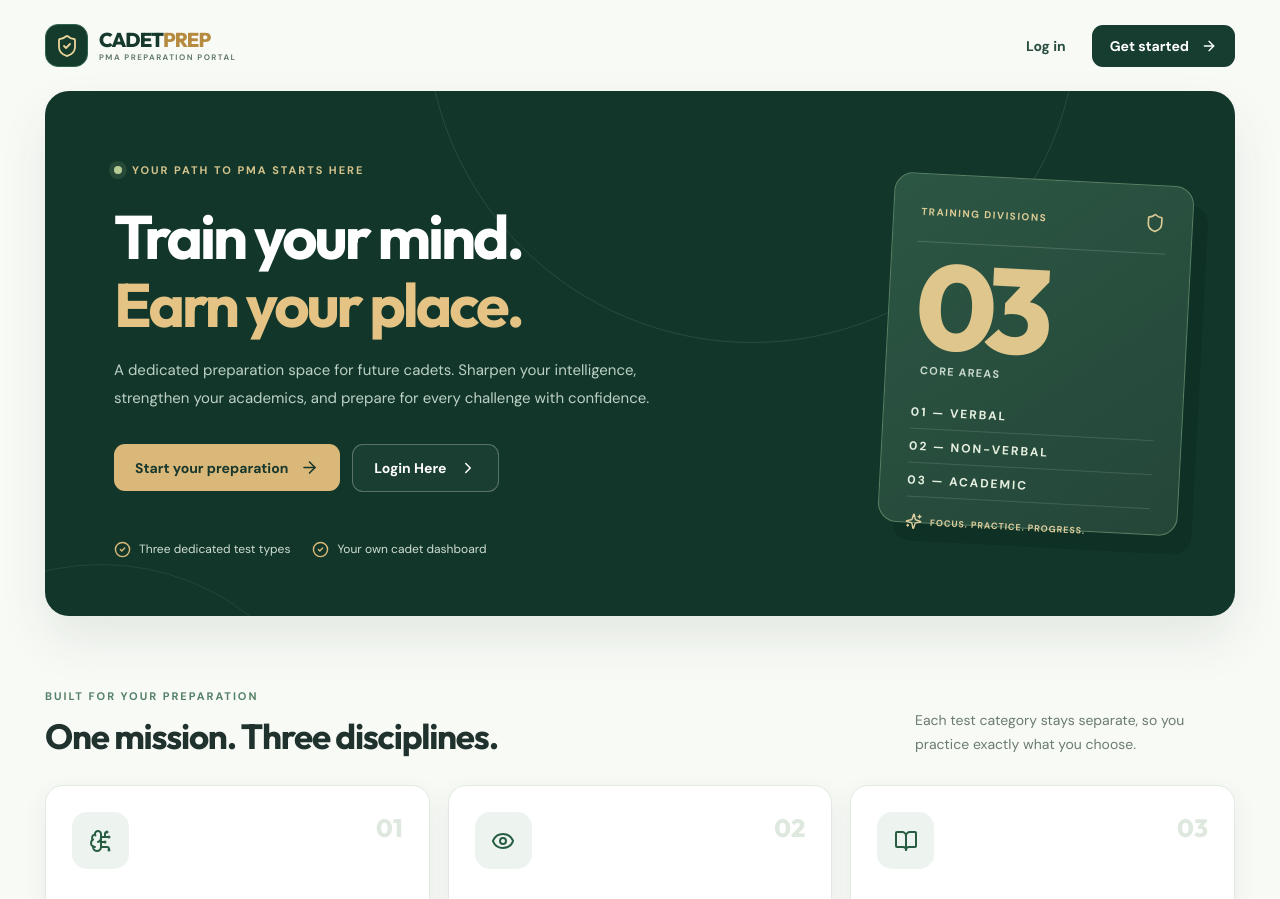
Scenario: the actual app entry point mounts home, login, and email-code recovery routes
The width and height of the screenshot is (1280, 899).
Check: the heading "Train your mind.Earn your place." is shown, box x1=114 y1=198 x2=522 y2=343
Click the link "Log in".
click(1046, 46)  # box x1=1026 y1=36 x2=1066 y2=54
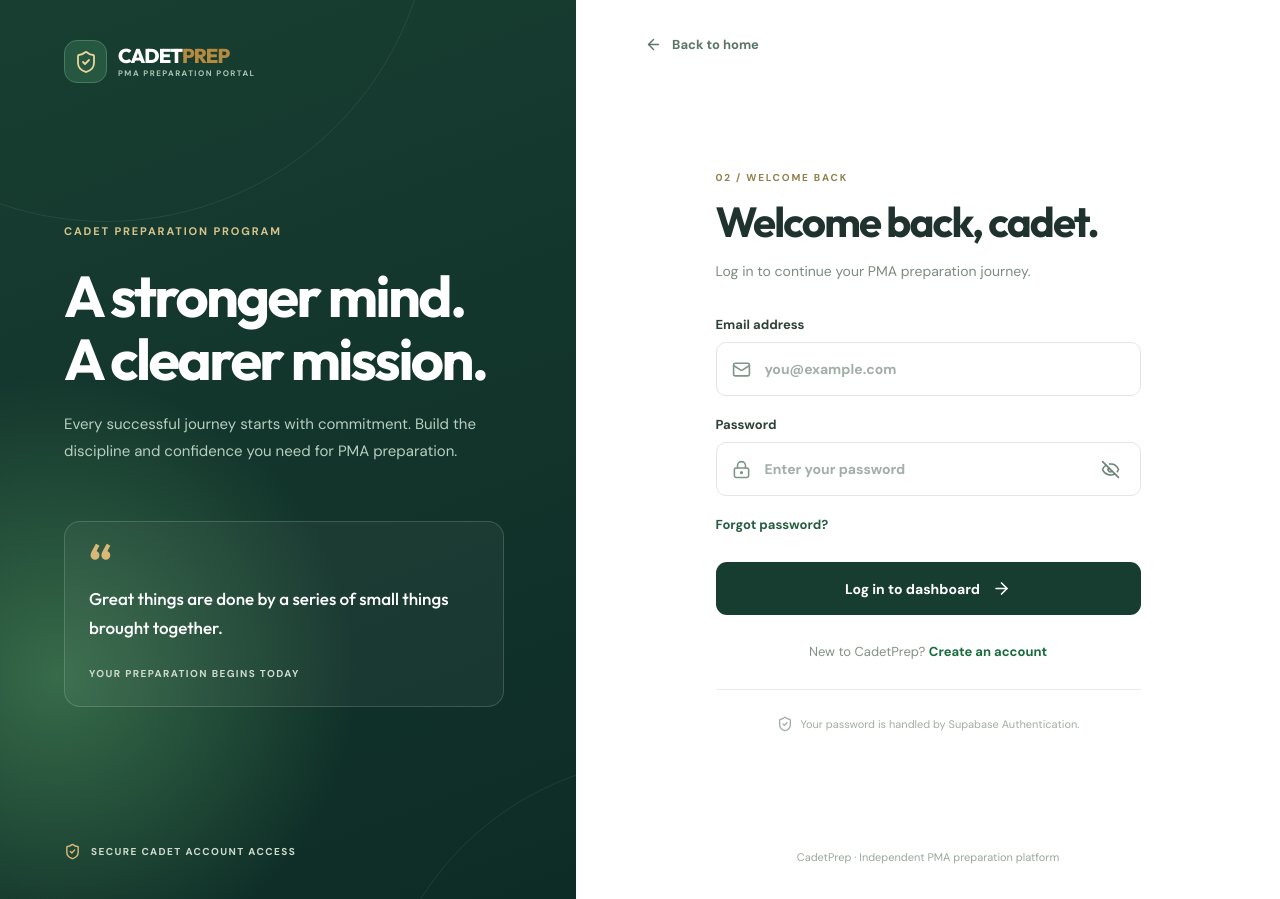
Check: the heading "Welcome back, cadet." is shown, box x1=716 y1=197 x2=1140 y2=246
Click the link "Forgot password?".
click(772, 525)  # box x1=716 y1=516 x2=828 y2=533
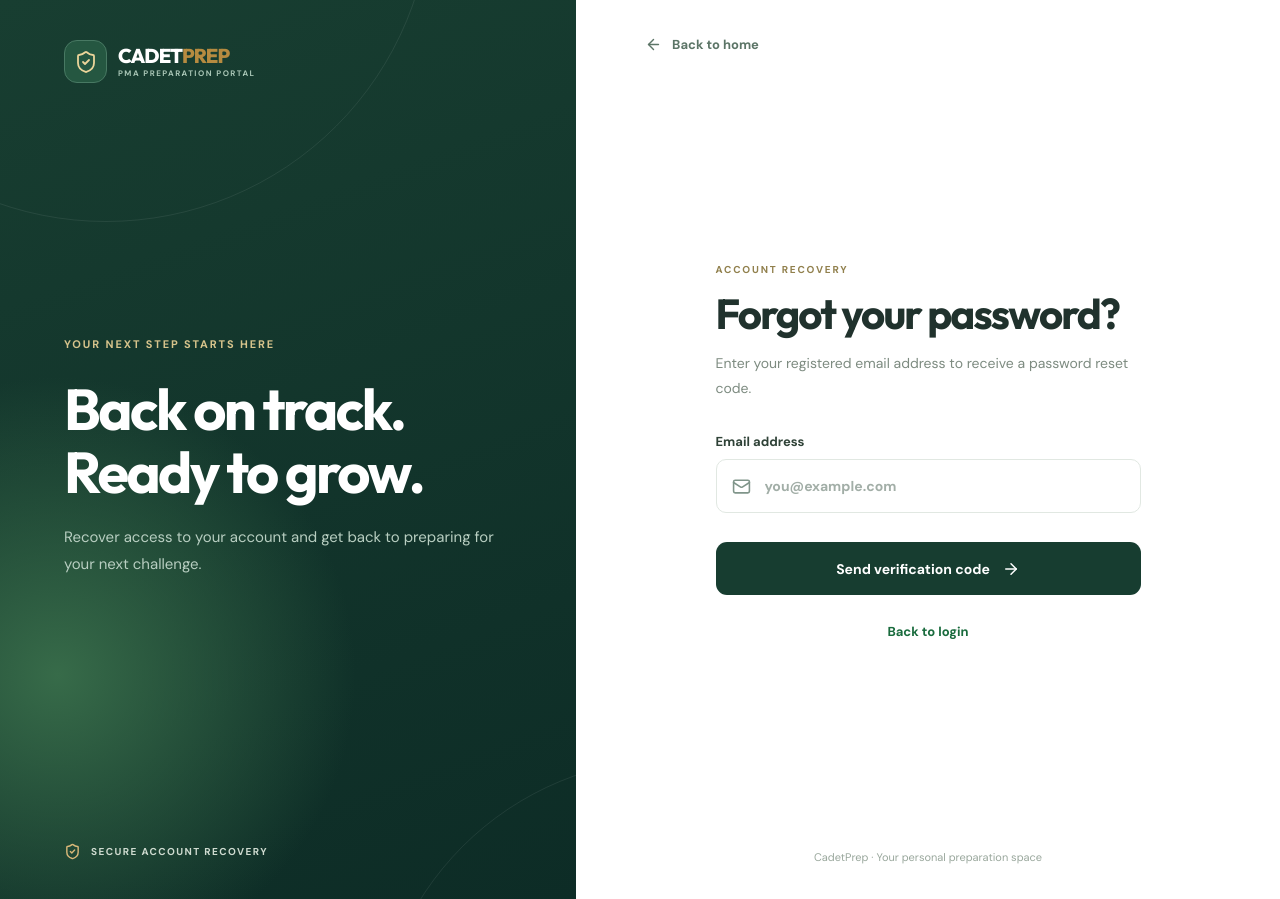
Check: the heading "Forgot your password?" is shown, box x1=716 y1=289 x2=1140 y2=338
Check: the button "Send verification code" is shown, box x1=716 y1=542 x2=1140 y2=595
Check: the password field labelled "Current password" is gone
